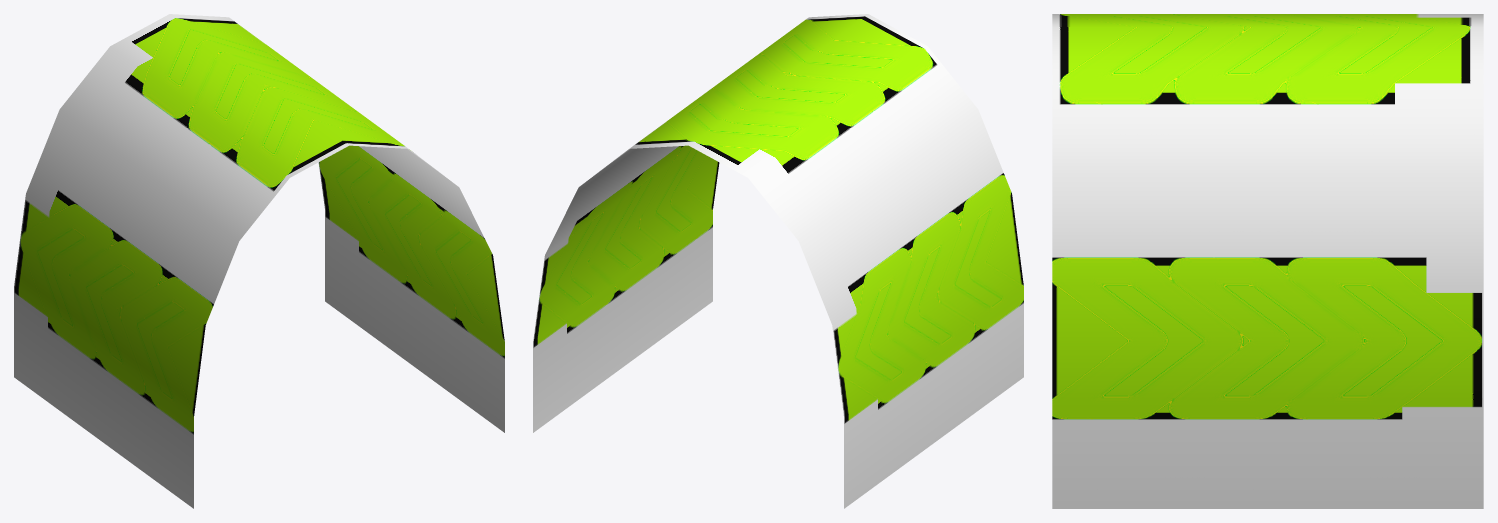
Rendered from ParkourBorderlines.fbx.
The picture shows the model from 3 angles, left to right: view 1: azimuth 30°, elevation 25°; view 2: azimuth 150°, elevation 25°; view 3: azimuth 270°, elevation 25°; orthographic projection. The views are drawn at different scales.
Parts seen in each view (by area): view 1: Circle; view 2: Circle; view 3: Circle.
Part boxes in pixels (left/top/right/bottom): Circle: left=14, top=14, right=504, bottom=508; Circle: left=533, top=14, right=1023, bottom=508; Circle: left=1052, top=14, right=1483, bottom=508.
Bounding box in the file's own units: 200 × 200 × 200.
Materials: 1 (1 with a texture image).
